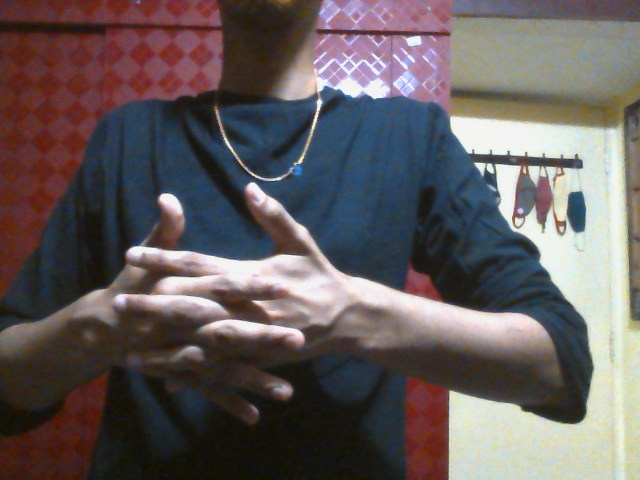W: (110, 181, 338, 443)
